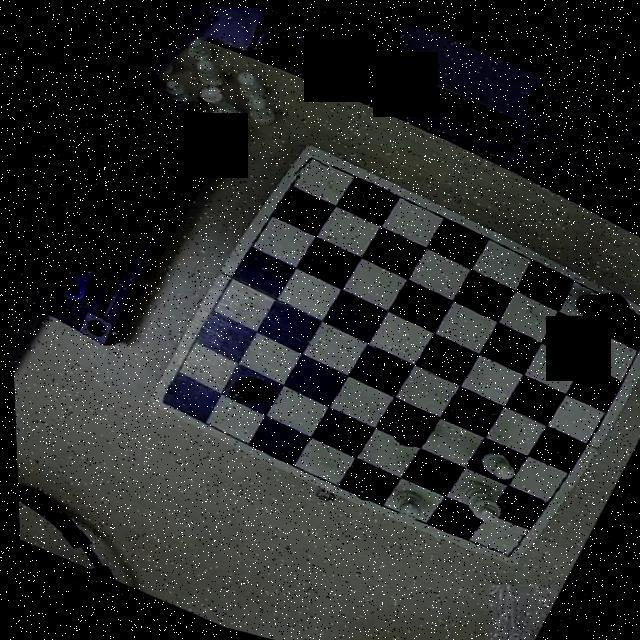chess-table-corners: (288, 141, 334, 185), (147, 374, 191, 416), (485, 530, 523, 564), (621, 298, 640, 337)
